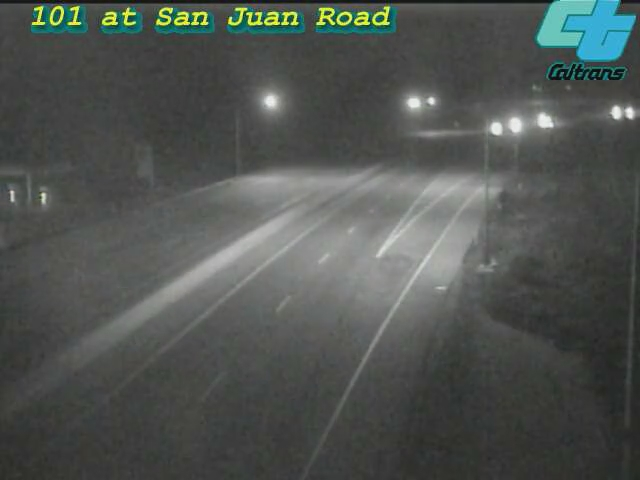vehicle: (523, 98, 573, 148), (470, 104, 520, 154), (490, 100, 540, 150), (591, 87, 640, 137), (605, 88, 640, 138)
